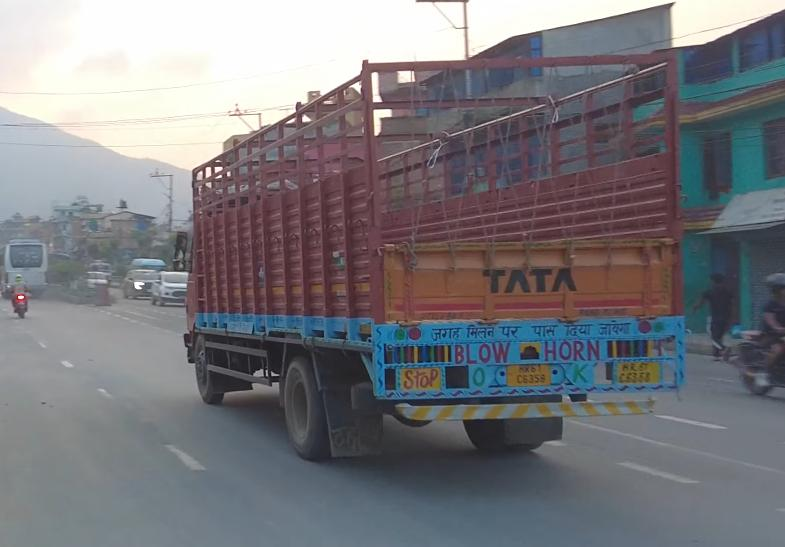bike: (6, 287, 30, 319)
bus: (0, 237, 52, 302)
car: (148, 267, 194, 308), (118, 266, 165, 302)
truck: (181, 51, 688, 460)
